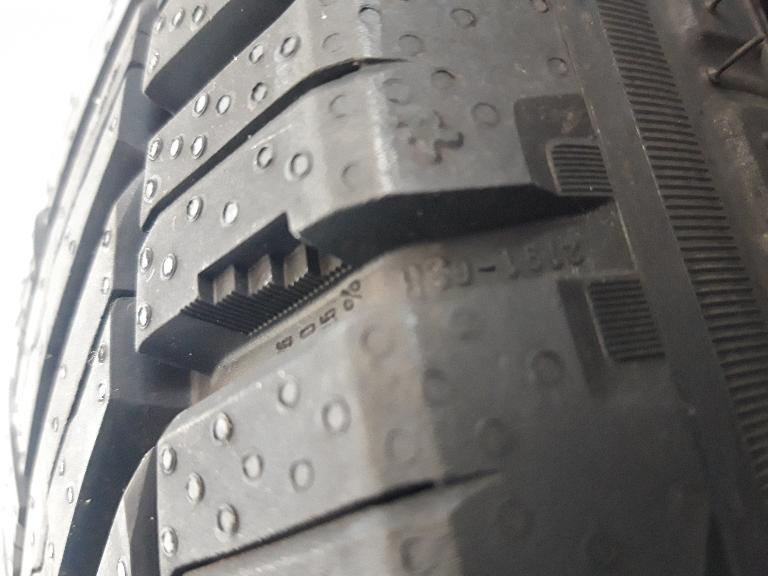temoin:100: (179, 210, 356, 339)
